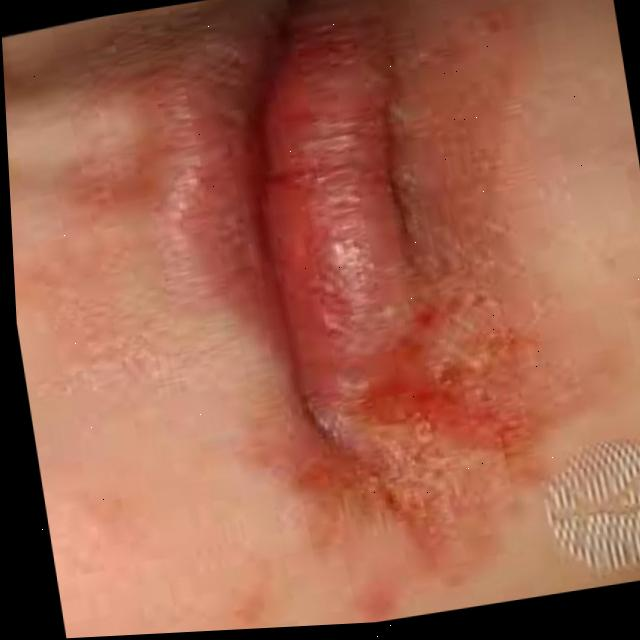Eczema: (228, 0, 583, 601)
